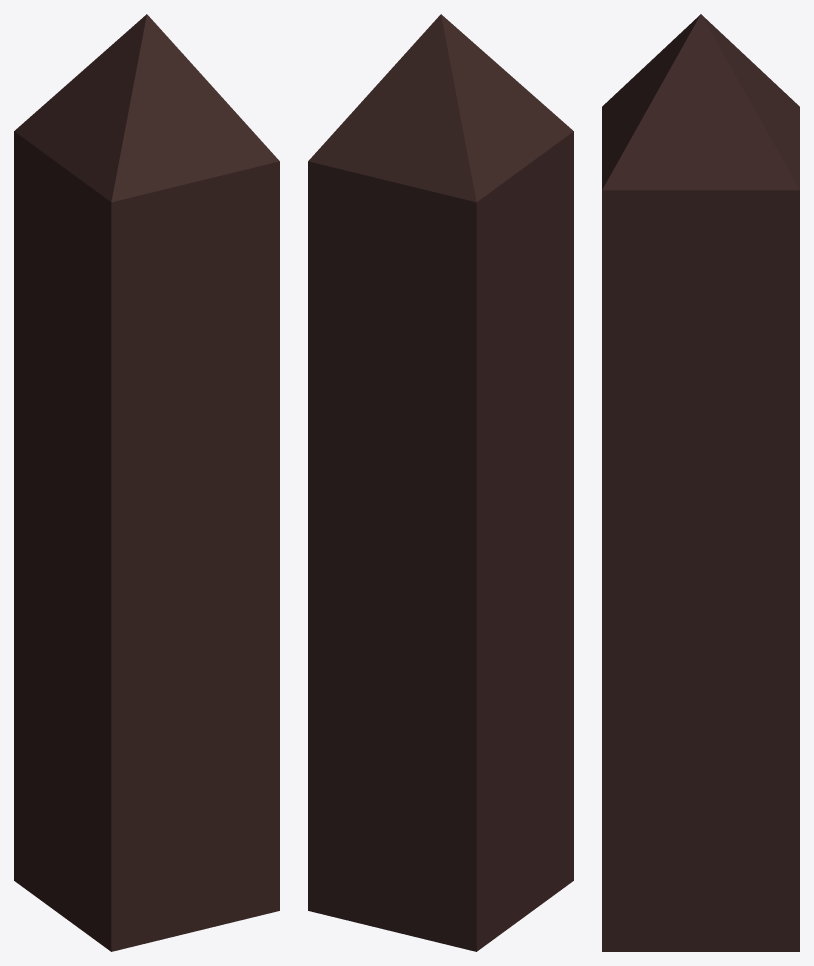
The model's file is fence_pole.fbx.
The picture shows the model from 3 angles, left to right: view 1: azimuth 30°, elevation 25°; view 2: azimuth 150°, elevation 25°; view 3: azimuth 270°, elevation 25°; orthographic projection.
Parts seen in each view (by area): view 1: Fence_Pole; view 2: Fence_Pole; view 3: Fence_Pole.
Boxes of the visible parts, <box> form: Fence_Pole: <box>14,14,279,951</box>; Fence_Pole: <box>308,14,573,951</box>; Fence_Pole: <box>602,14,799,951</box>.
Bounding box in the file's own units: 40 × 200 × 40.
